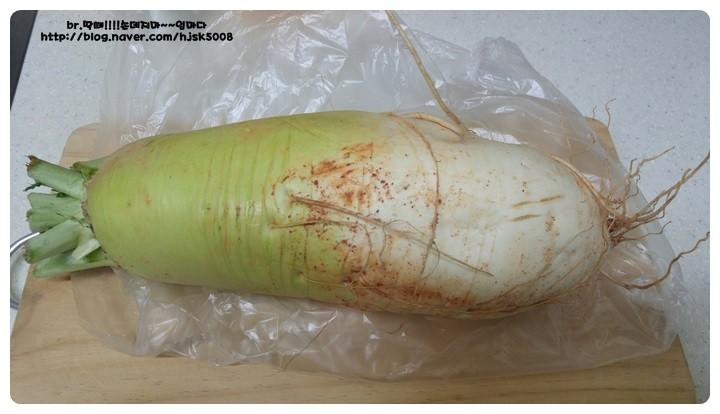radish: (22, 79, 709, 206)
